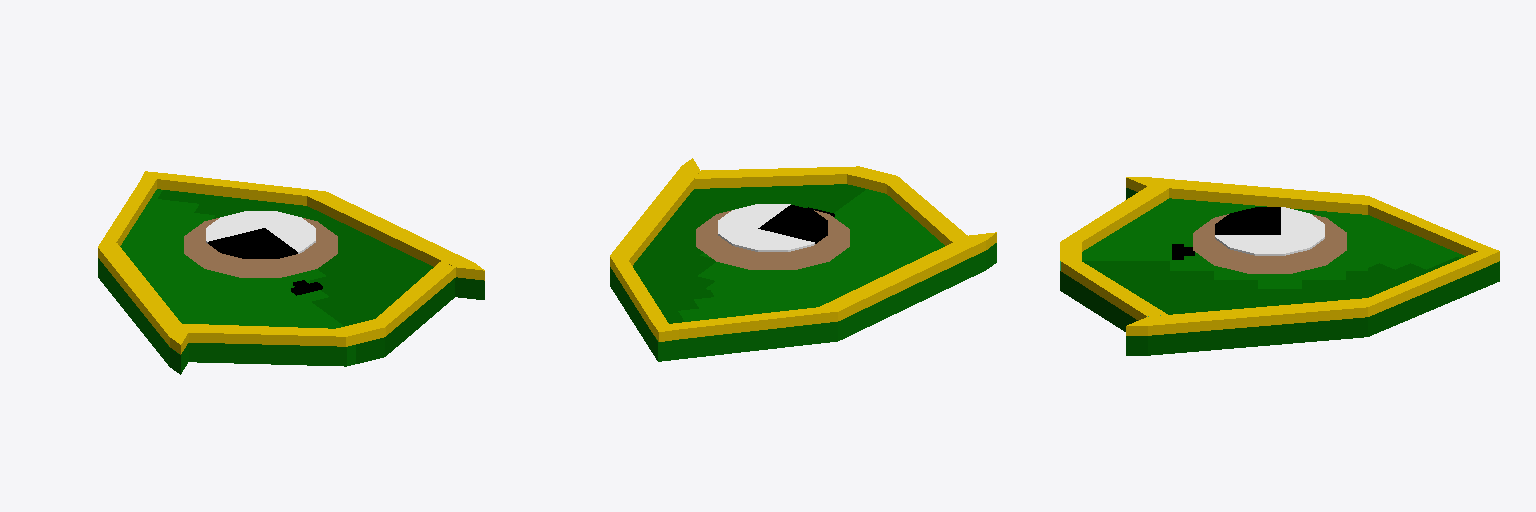
3 views of the same model, side by side, from view 1: azimuth 30°, elevation 25°; view 2: azimuth 150°, elevation 25°; view 3: azimuth 270°, elevation 25° (orthographic).
Parts seen in each view (by area): view 1: shield(main), cuboid, cylinder, circle; view 2: shield(main), cuboid, cylinder, circle; view 3: shield(main), cuboid, cylinder, circle.
Part boxes in pixels (x1,y1,x2,y2): shield(main): (98,189,484,374); cuboid: (98,171,484,354); cylinder: (206,211,315,258); circle: (184,218,337,277); shield(main): (610,184,996,361); cuboid: (610,158,996,341); cylinder: (718,204,827,251); circle: (696,210,849,269); shield(main): (1060,188,1499,355); cuboid: (1060,177,1499,335); cylinder: (1215,207,1324,255); circle: (1193,214,1346,273).
Size of the model in its own units: 1 by 0.1594 by 1.25.
5 materials, 5 textured.